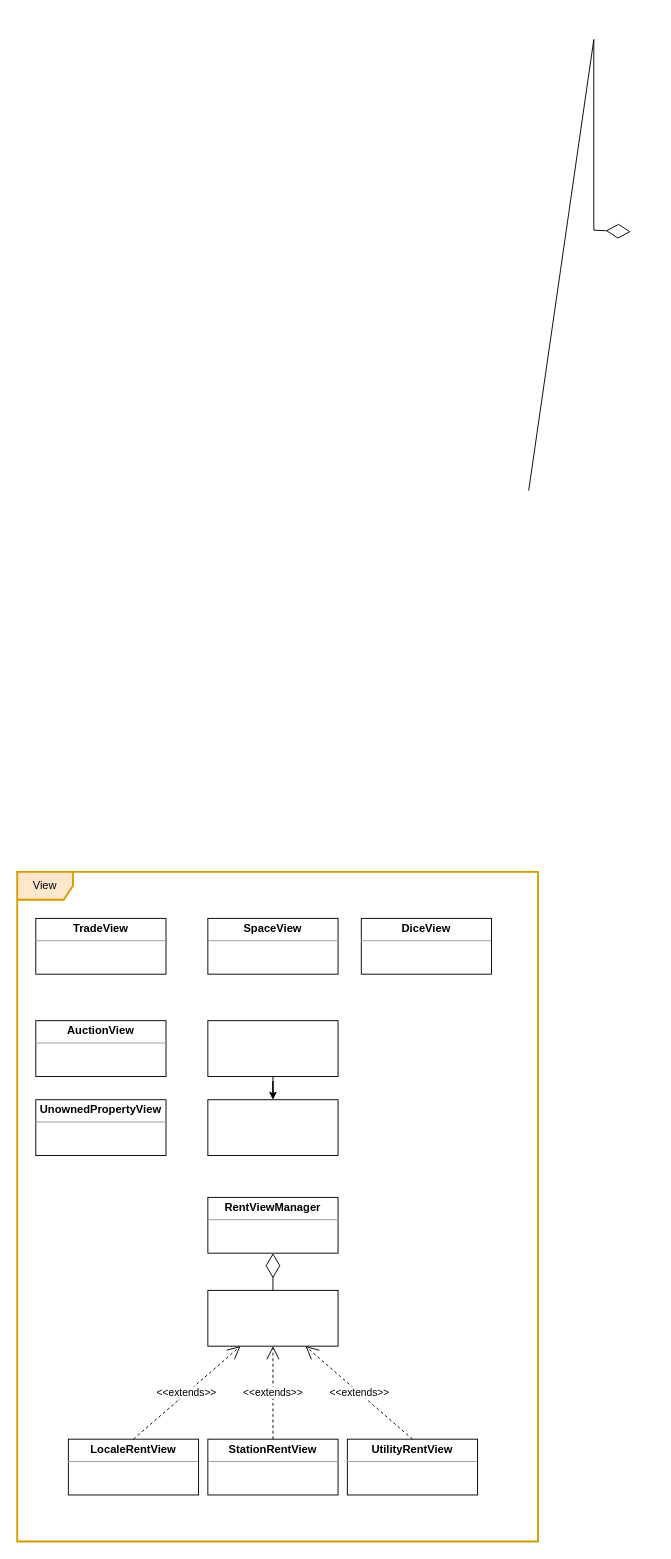
Some shapes in this 671 by 1559 pixel diagram are drawn without their labels. Here are the shapes that lost their labels. From the top down, the centre of each, then its label:
(x=272, y=1048): PieceView
(x=272, y=1127): ColorPiece
(x=272, y=1317): <<abstract>> PropertyRentView
